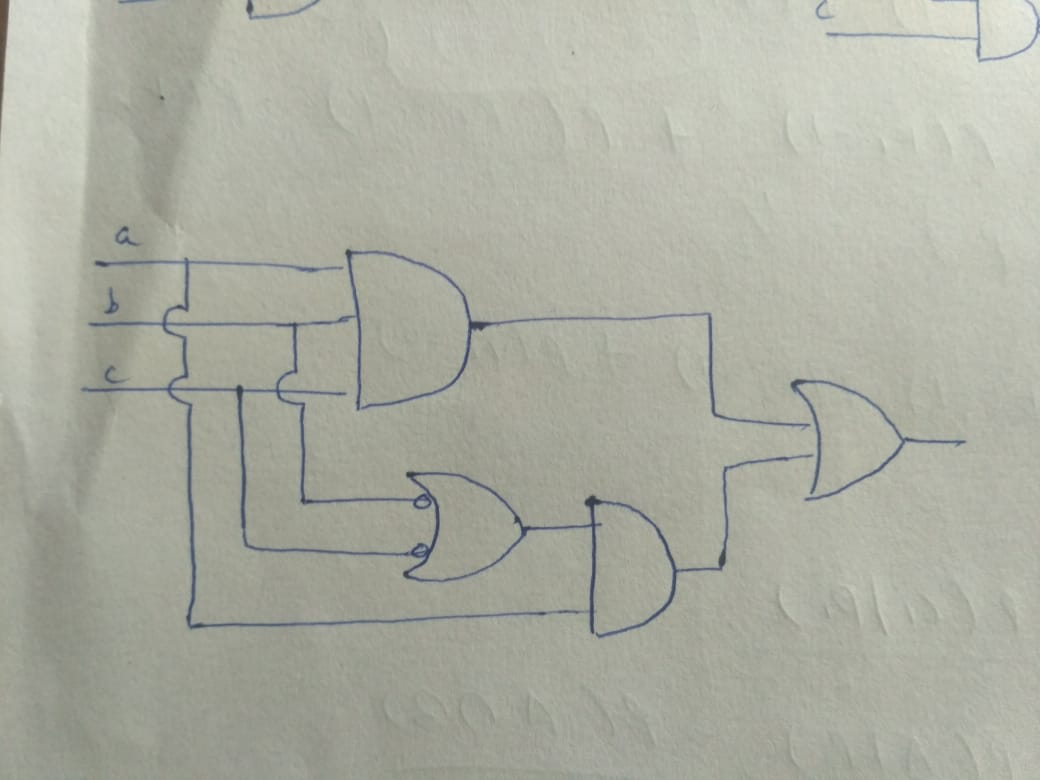and: (310, 229, 500, 423), (563, 478, 703, 645)
or: (777, 361, 929, 519)
